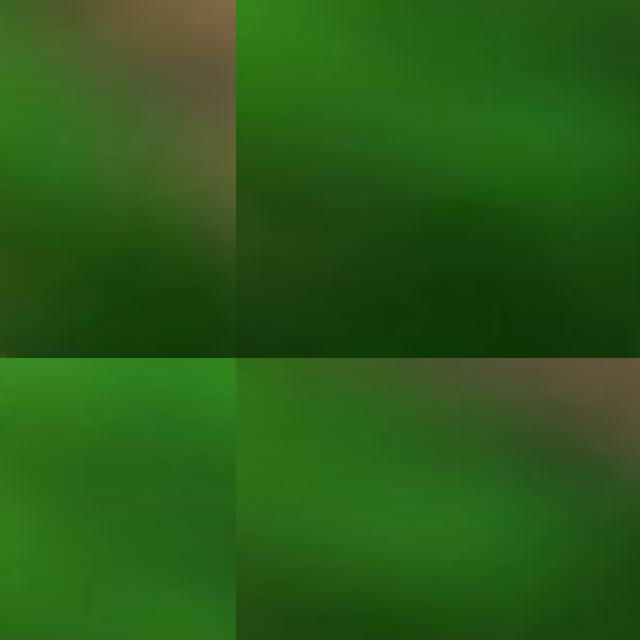fish: (0, 0, 236, 358), (528, 0, 640, 358)
